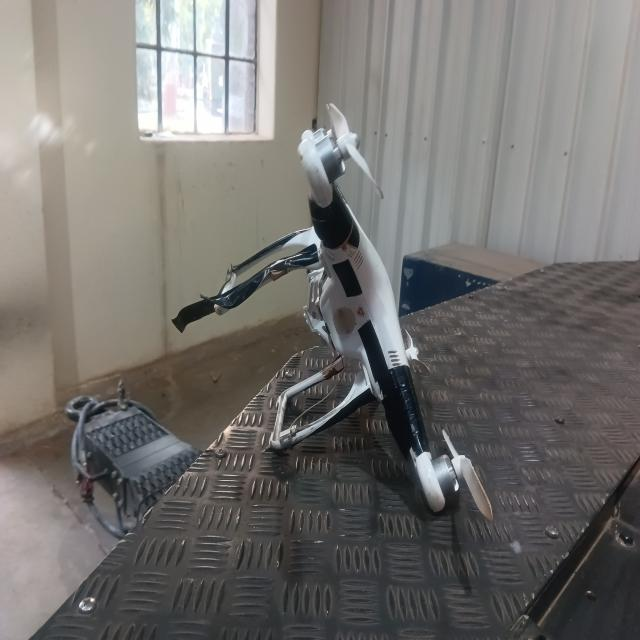drone: (160, 94, 547, 562)
